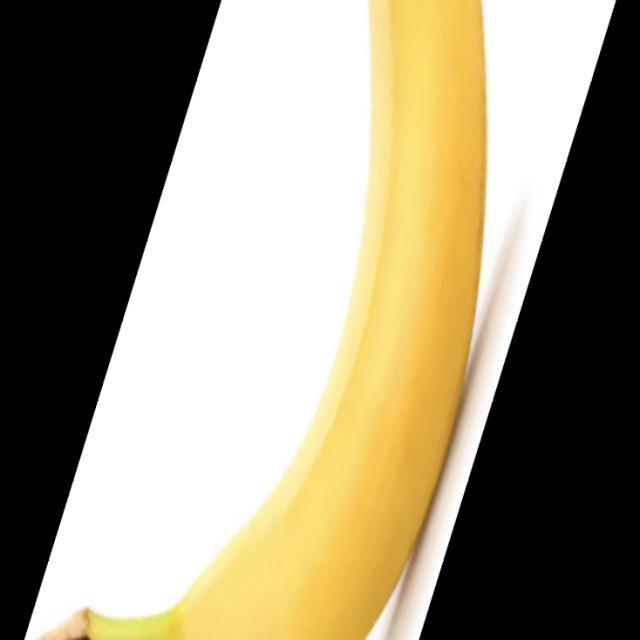Banana: (22, 0, 488, 639)
